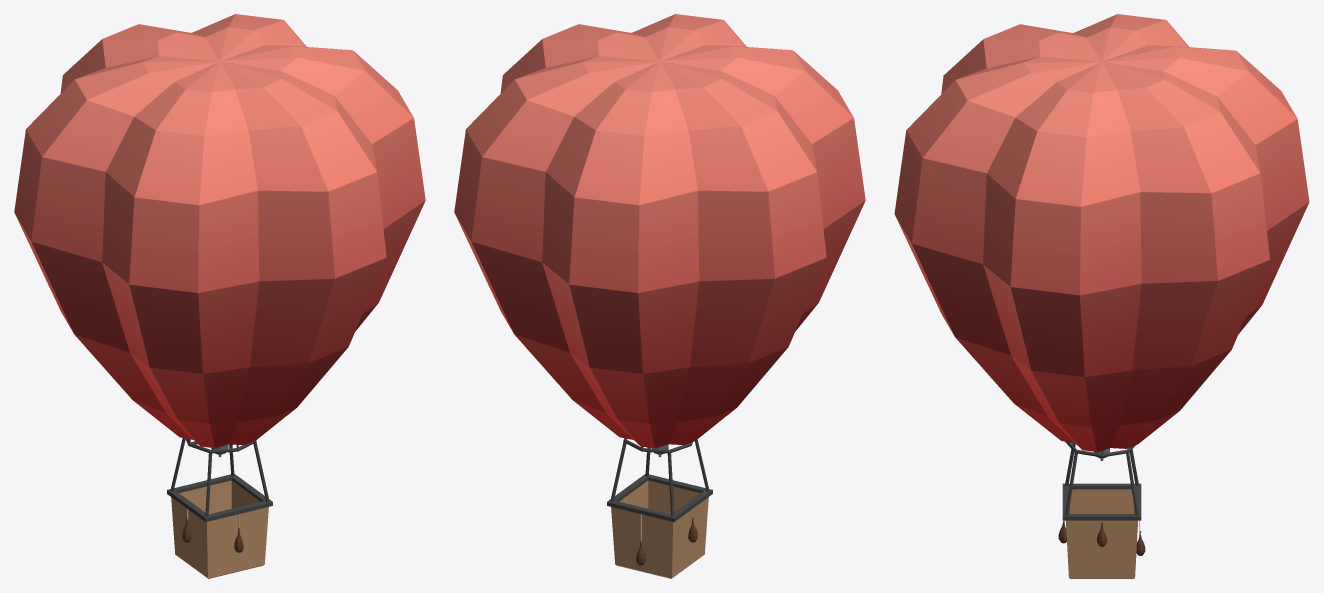
File: AirBalloon_01.fbx
3 views of the same model, side by side, from view 1: azimuth 30°, elevation 25°; view 2: azimuth 150°, elevation 25°; view 3: azimuth 270°, elevation 25° (orthographic).
Visible parts, largest first — view 1: AirBalloon_01; view 2: AirBalloon_01; view 3: AirBalloon_01.
Boxes of the visible parts, x1,y1,x2,y2 form: AirBalloon_01: [14, 14, 425, 578]; AirBalloon_01: [454, 14, 865, 578]; AirBalloon_01: [894, 14, 1309, 578].
Size of the model in its own units: 679 by 915 by 681.
